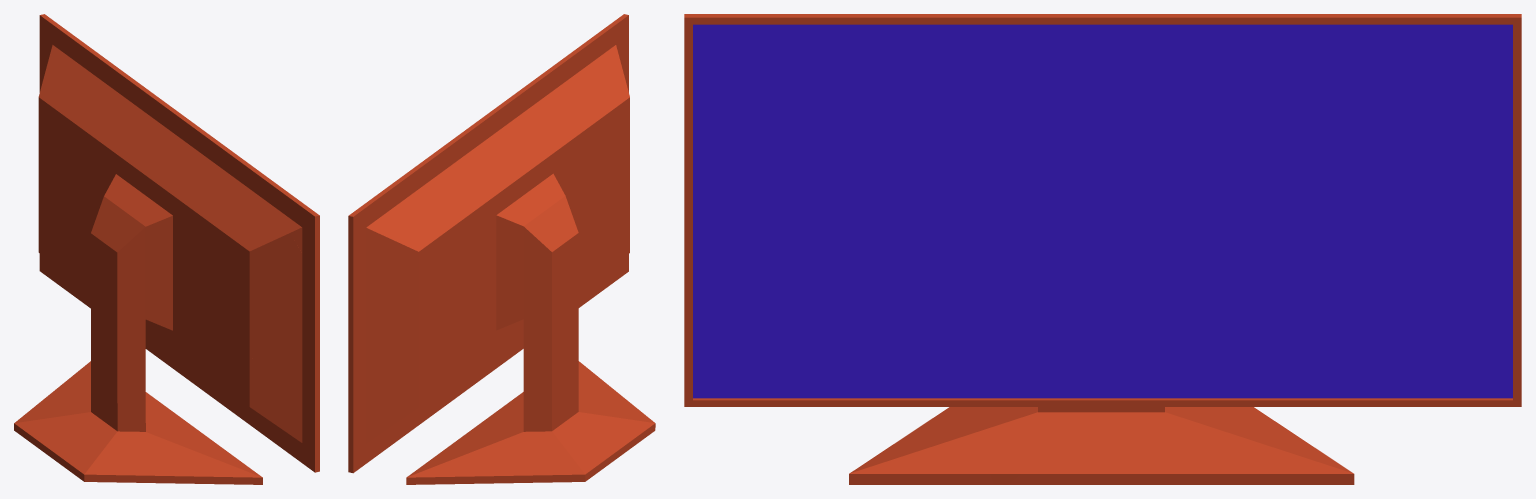
The model's file is P_TV_Colored_Breakable.fbx.
The picture shows the model from 3 angles, left to right: view 1: azimuth 30°, elevation 25°; view 2: azimuth 150°, elevation 25°; view 3: azimuth 270°, elevation 25°; orthographic projection. The views are drawn at different scales.
Visible parts, largest first — view 1: P_Television_Colored_Breakable, P_Television_Colored_Breakable_cell.021, P_Television_Colored_Breakable_cell.005, P_Television_Colored_Breakable_cell.022, P_Television_Colored_Breakable_cell.017, P_Television_Colored_Breakable_cell.002, P_Television_Colored_Breakable_cell, P_Television_Colored_Breakable_cell.013, P_Television_Colored_Breakable_cell.018, P_Television_Colored_Breakable_cell.014; view 2: P_Television_Colored_Breakable; view 3: P_Television_Colored_Breakable_cell.017, P_Television_Colored_Breakable_cell.022, P_Television_Colored_Breakable_cell.021, P_Television_Colored_Breakable, P_Television_Colored_Breakable_cell.026, P_Television_Colored_Breakable_cell.004, P_Television_Colored_Breakable_cell.005, P_Television_Colored_Breakable_cell.010, P_Television_Colored_Breakable_cell.019, P_Television_Colored_Breakable_cell.025, P_Television_Colored_Breakable_cell, P_Television_Colored_Breakable_cell.016 (+7 smaller).
Part boxes in pixels (x1,y1,x2,y2): P_Television_Colored_Breakable: (14, 14, 319, 482); P_Television_Colored_Breakable_cell.021: (249, 233, 319, 359); P_Television_Colored_Breakable_cell.005: (249, 358, 302, 442); P_Television_Colored_Breakable_cell.022: (119, 260, 172, 368); P_Television_Colored_Breakable_cell.017: (117, 216, 172, 275); P_Television_Colored_Breakable_cell.002: (117, 356, 145, 431); P_Television_Colored_Breakable_cell: (290, 354, 319, 472); P_Television_Colored_Breakable_cell.013: (84, 474, 174, 483); P_Television_Colored_Breakable_cell.018: (174, 476, 262, 484); P_Television_Colored_Breakable_cell.014: (315, 233, 319, 307); P_Television_Colored_Breakable: (348, 14, 655, 484); P_Television_Colored_Breakable_cell.017: (968, 17, 1354, 230); P_Television_Colored_Breakable_cell.022: (843, 144, 1136, 406); P_Television_Colored_Breakable_cell.021: (684, 17, 988, 251); P_Television_Colored_Breakable: (684, 14, 1521, 484); P_Television_Colored_Breakable_cell.026: (1130, 179, 1365, 406); P_Television_Colored_Breakable_cell.004: (1337, 190, 1521, 406); P_Television_Colored_Breakable_cell.005: (706, 249, 883, 406); P_Television_Colored_Breakable_cell.010: (1262, 17, 1481, 163); P_Television_Colored_Breakable_cell.019: (1351, 66, 1521, 212); P_Television_Colored_Breakable_cell.025: (1228, 316, 1401, 406); P_Television_Colored_Breakable_cell: (684, 228, 738, 406); P_Television_Colored_Breakable_cell.016: (1363, 17, 1521, 152).
Size of the model in its own units: 107 by 237 by 383.
